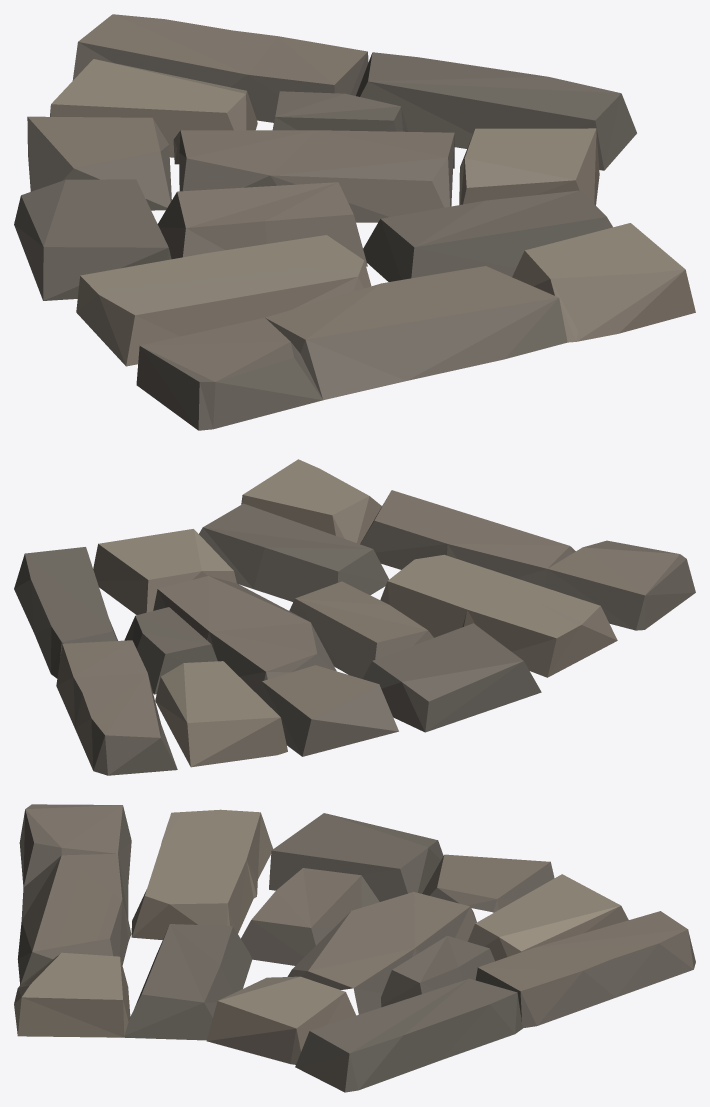
Rendered from elven_SM_Env_Footpath_Corner_Small_02.gltf.
3 views of the same model, one above another, from view 1: azimuth 30°, elevation 25°; view 2: azimuth 150°, elevation 25°; view 3: azimuth 270°, elevation 25° (orthographic). The views are drawn at different scales.
Visible parts, largest first — view 1: SM_Env_Footpath_Corner_Small_02; view 2: SM_Env_Footpath_Corner_Small_02; view 3: SM_Env_Footpath_Corner_Small_02.
Part boxes in pixels (x1,y1,x2,y2): SM_Env_Footpath_Corner_Small_02: [14, 14, 695, 430]; SM_Env_Footpath_Corner_Small_02: [14, 459, 695, 775]; SM_Env_Footpath_Corner_Small_02: [14, 804, 695, 1092].
Bounding box in the file's own units: 3.35 × 0.2228 × 3.78.
1 material, 1 textured.
